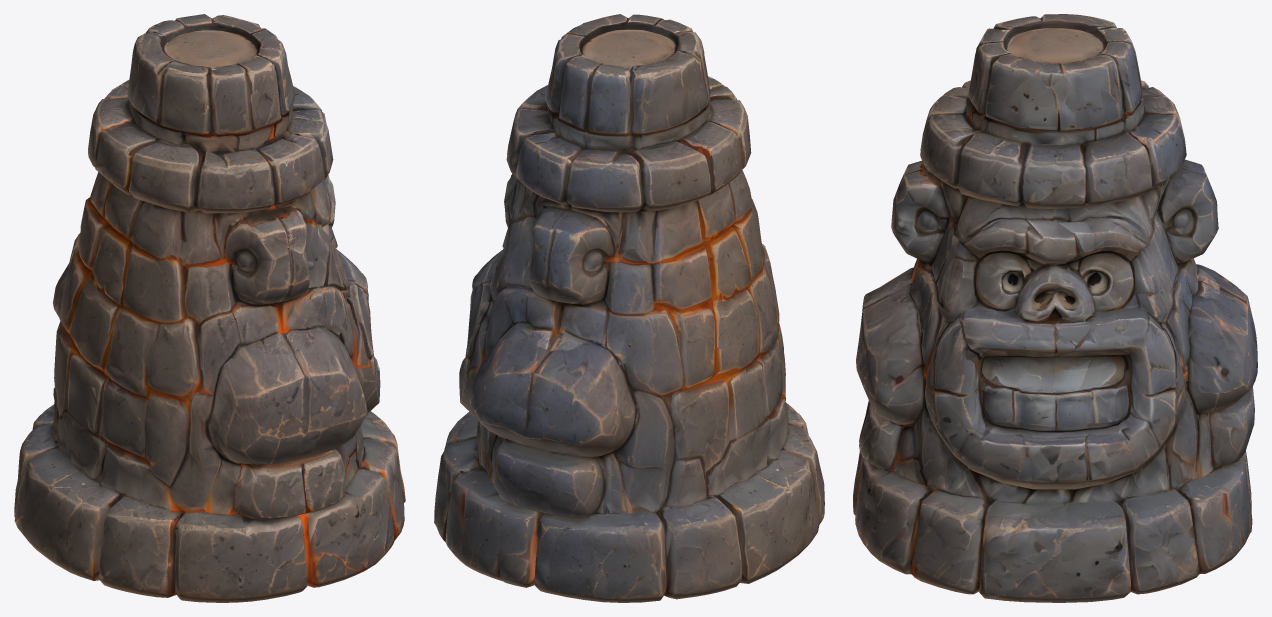
The model's file is totem.glb.
3 views of the same model, side by side, from view 1: azimuth 30°, elevation 25°; view 2: azimuth 150°, elevation 25°; view 3: azimuth 270°, elevation 25° (orthographic).
Visible parts, largest first — view 1: tripo_node_37567999-b5a1-4405-9846-e478477ad5fc; view 2: tripo_node_37567999-b5a1-4405-9846-e478477ad5fc; view 3: tripo_node_37567999-b5a1-4405-9846-e478477ad5fc.
Boxes of the visible parts, x1,y1,x2,y2 form: tripo_node_37567999-b5a1-4405-9846-e478477ad5fc: (14, 14, 405, 602); tripo_node_37567999-b5a1-4405-9846-e478477ad5fc: (434, 14, 824, 602); tripo_node_37567999-b5a1-4405-9846-e478477ad5fc: (853, 14, 1257, 602).
Bounding box in the file's own units: 0.6776 × 1 × 0.7049.
1 material, 1 textured.
